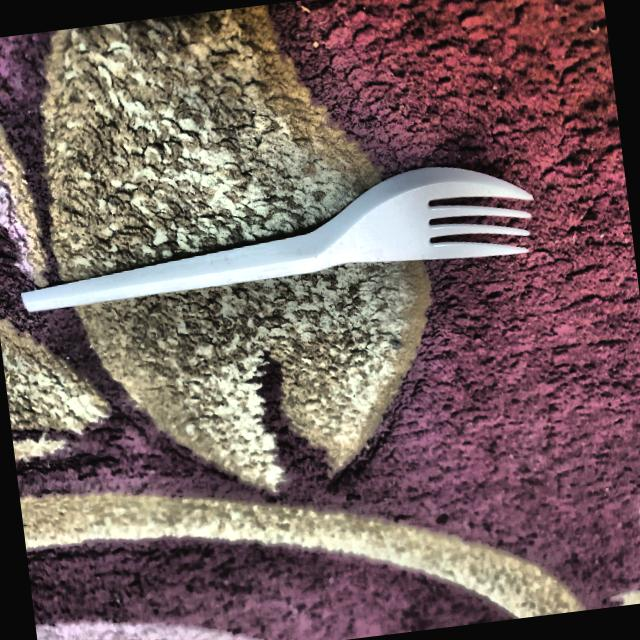plastic utensil: (10, 140, 545, 330)
